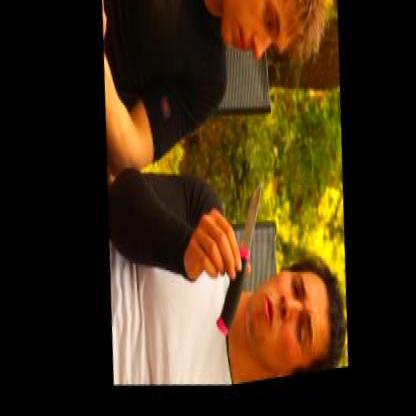knife: (193, 170, 273, 356)
